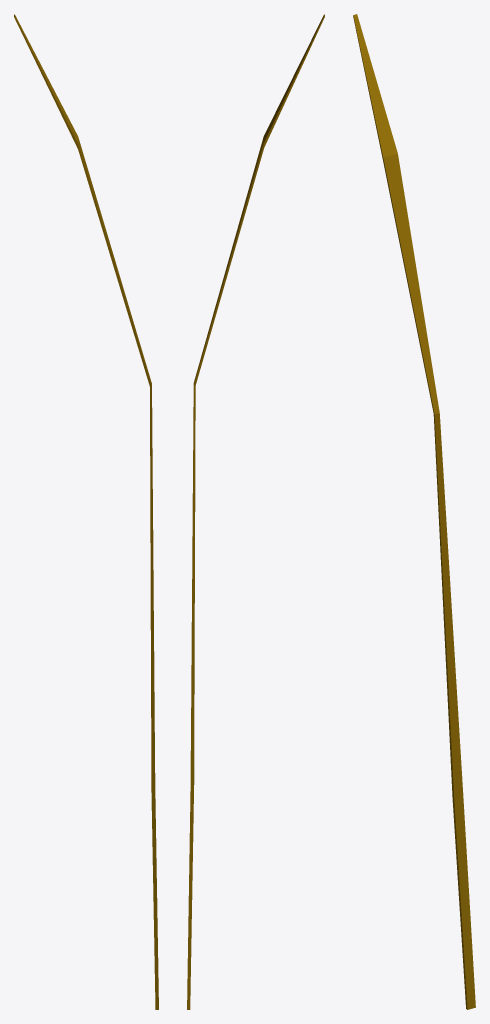
File: Vegetation_Modular_Rush_Frond_01.fbx
3 renders of one model, left to right at view 1: azimuth 30°, elevation 25°; view 2: azimuth 210°, elevation 25°; view 3: azimuth 330°, elevation 25°, orthographic. The views are drawn at different scales.
Visible parts, largest first — view 1: Vegetation_Modular_Rush_Frond_01; view 2: Vegetation_Modular_Rush_Frond_01; view 3: Vegetation_Modular_Rush_Frond_01.
Boxes of the visible parts, x1,y1,x2,y2 form: Vegetation_Modular_Rush_Frond_01: (14,14,158,1009); Vegetation_Modular_Rush_Frond_01: (187,14,324,1009); Vegetation_Modular_Rush_Frond_01: (353,14,475,1009).
Size of the model in its own units: 11.38 by 80.33 by 3.94.
